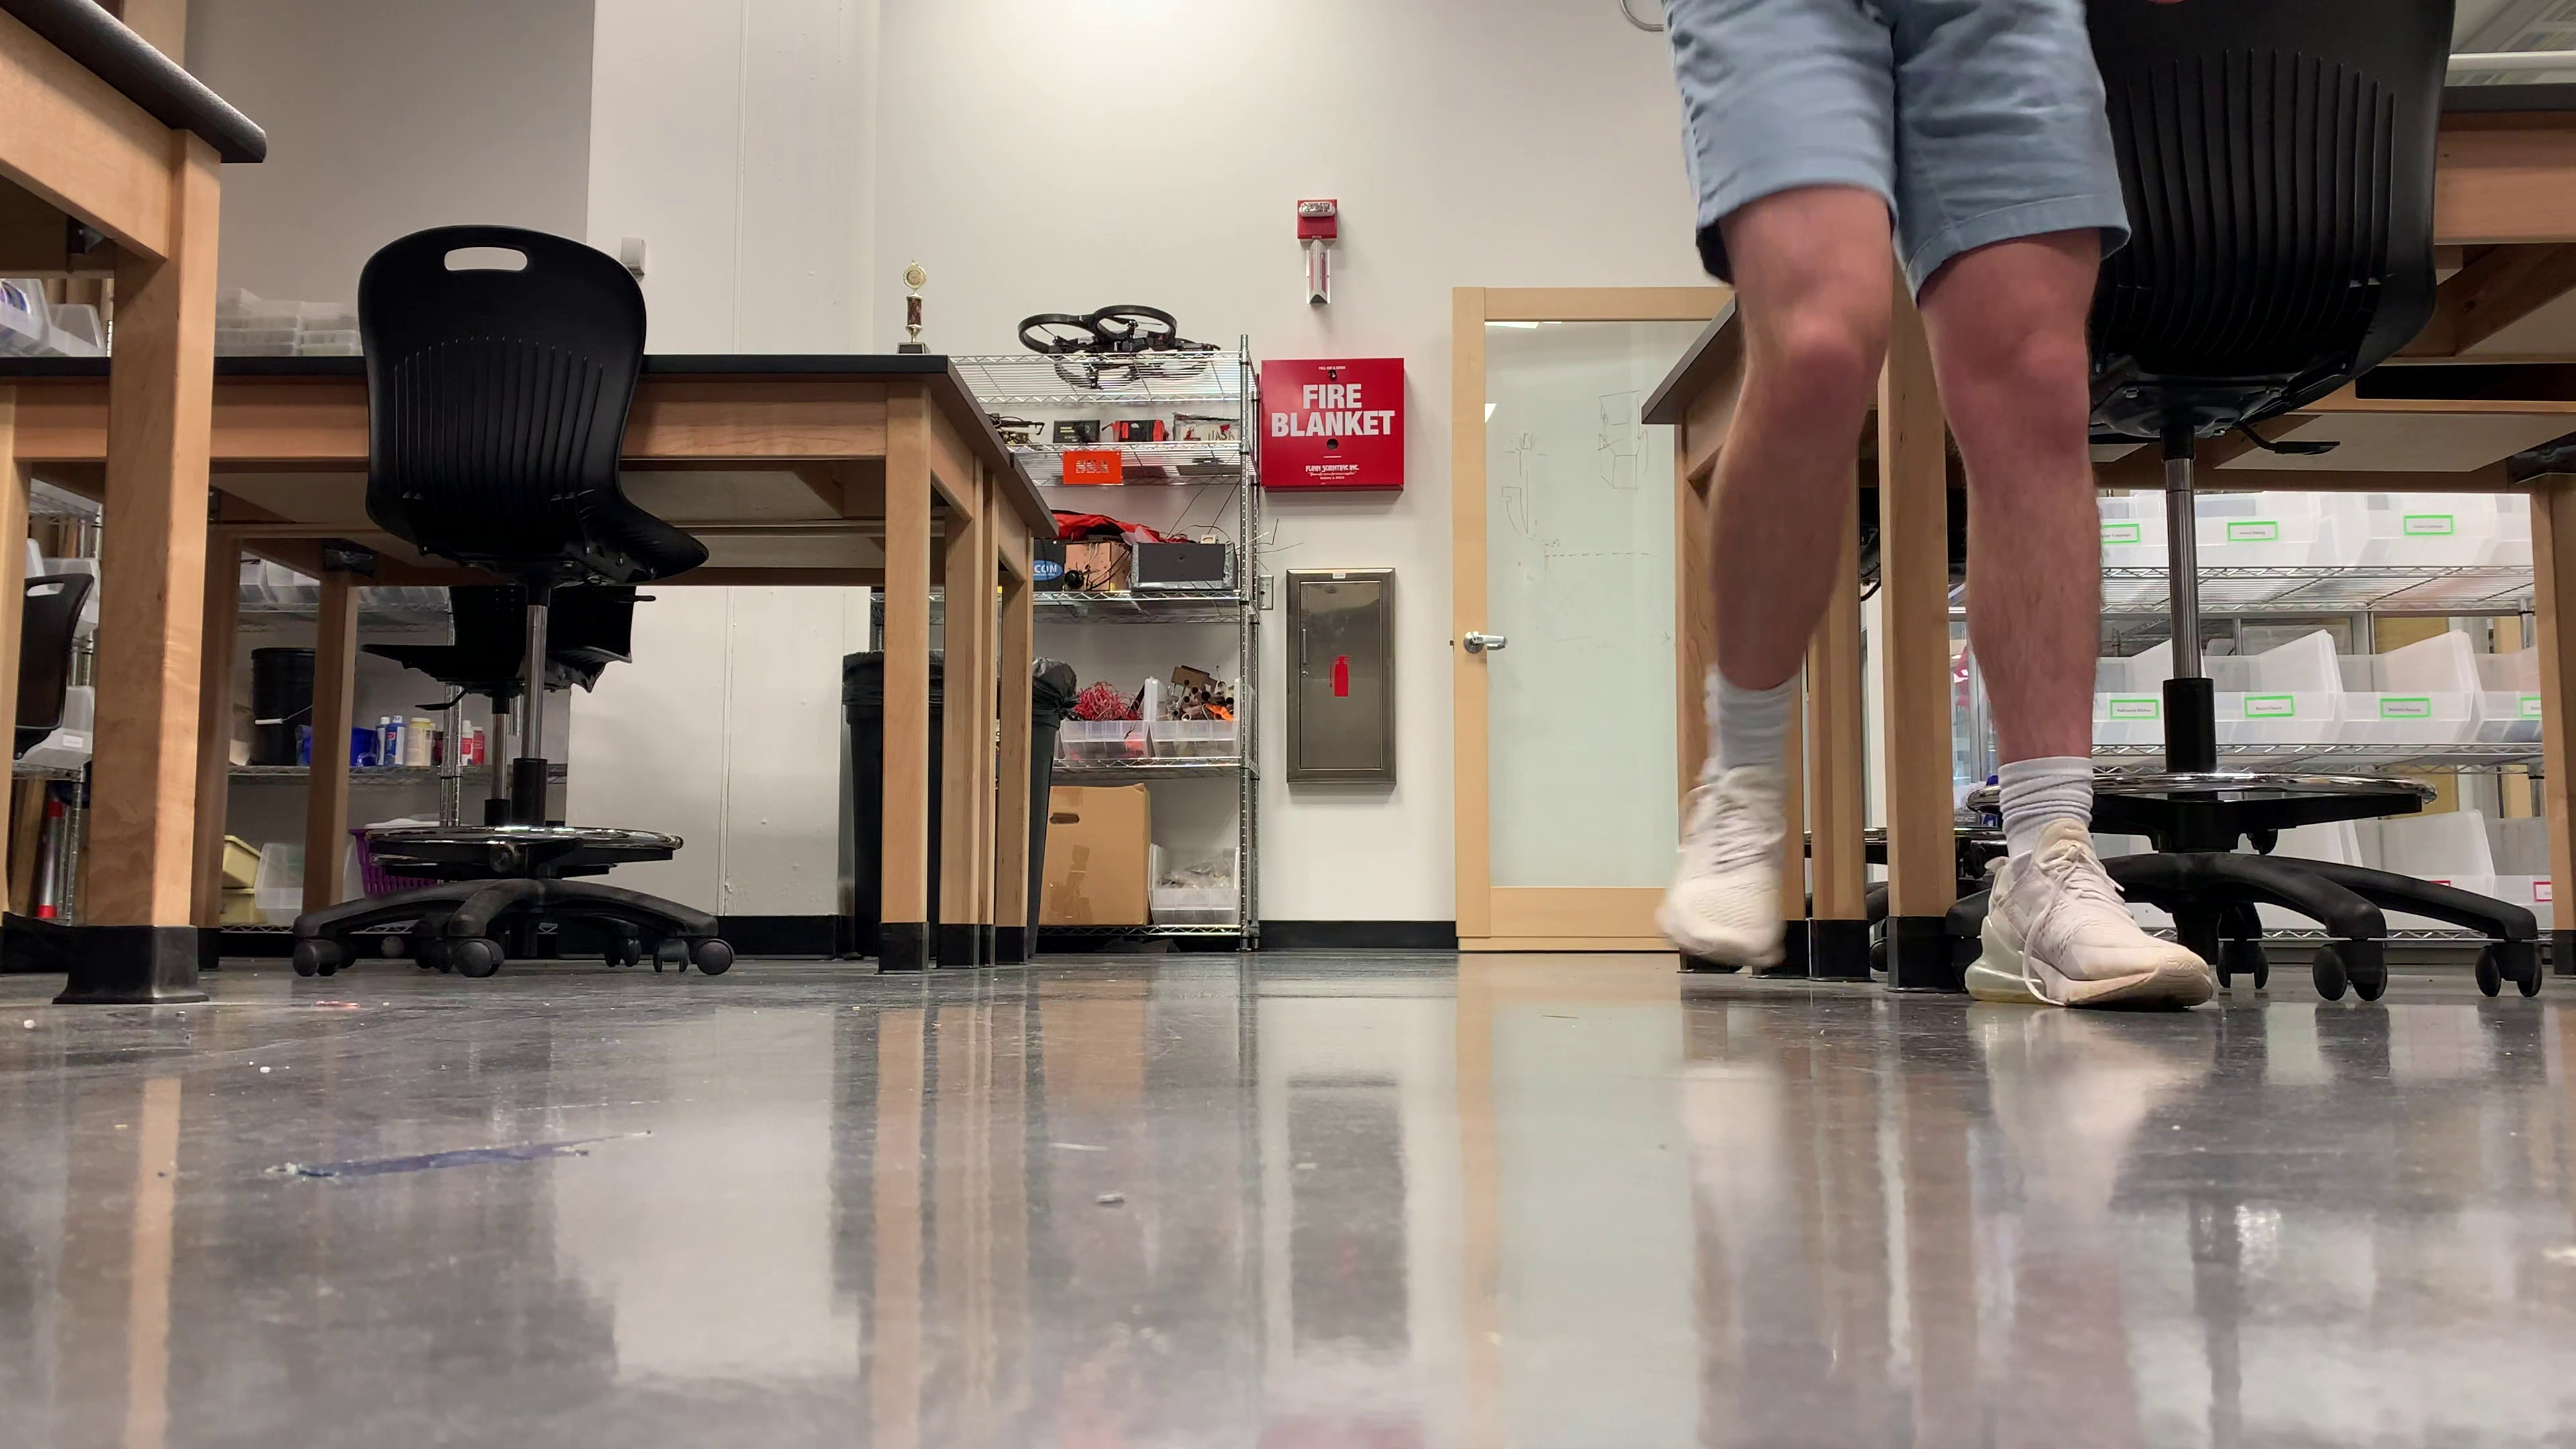shoe: (1964, 819, 2212, 1010), (1656, 759, 1787, 966)
